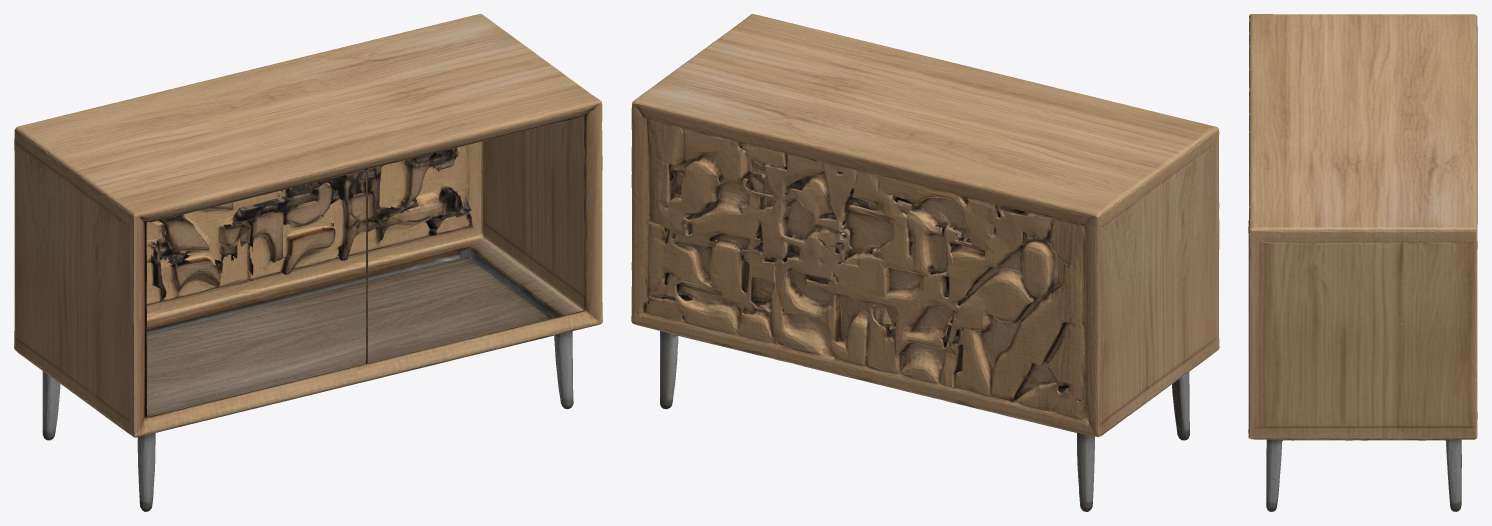
File: body.glb
3 views of the same model, side by side, from view 1: azimuth 30°, elevation 25°; view 2: azimuth 150°, elevation 25°; view 3: azimuth 270°, elevation 25° (orthographic). The views are drawn at different scales.
Visible parts, largest first — view 1: source_surface_0; view 2: source_surface_0; view 3: source_surface_0.
Part boxes in pixels (x1=…): source_surface_0: x1=14, y1=14, x2=602, y2=511; source_surface_0: x1=631, y1=14, x2=1219, y2=511; source_surface_0: x1=1248, y1=14, x2=1477, y2=511.
Size of the model in its own units: 1.6 by 1.01 by 0.7176.
Materials: 1 (1 with a texture image).
